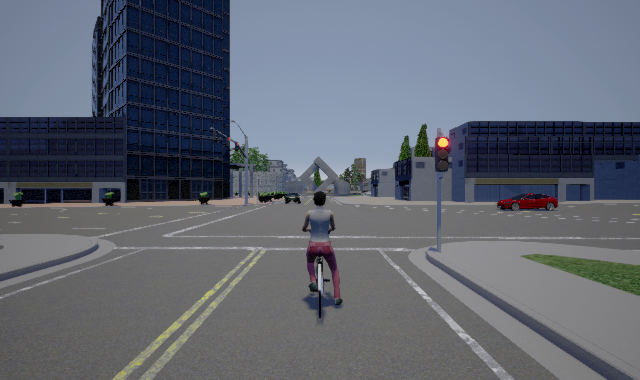bike: (299, 191, 348, 318)
traffic_light: (435, 131, 449, 179), (214, 130, 219, 141), (226, 137, 231, 147), (235, 142, 239, 151)
vehicle: (497, 193, 558, 211), (282, 188, 304, 207)
